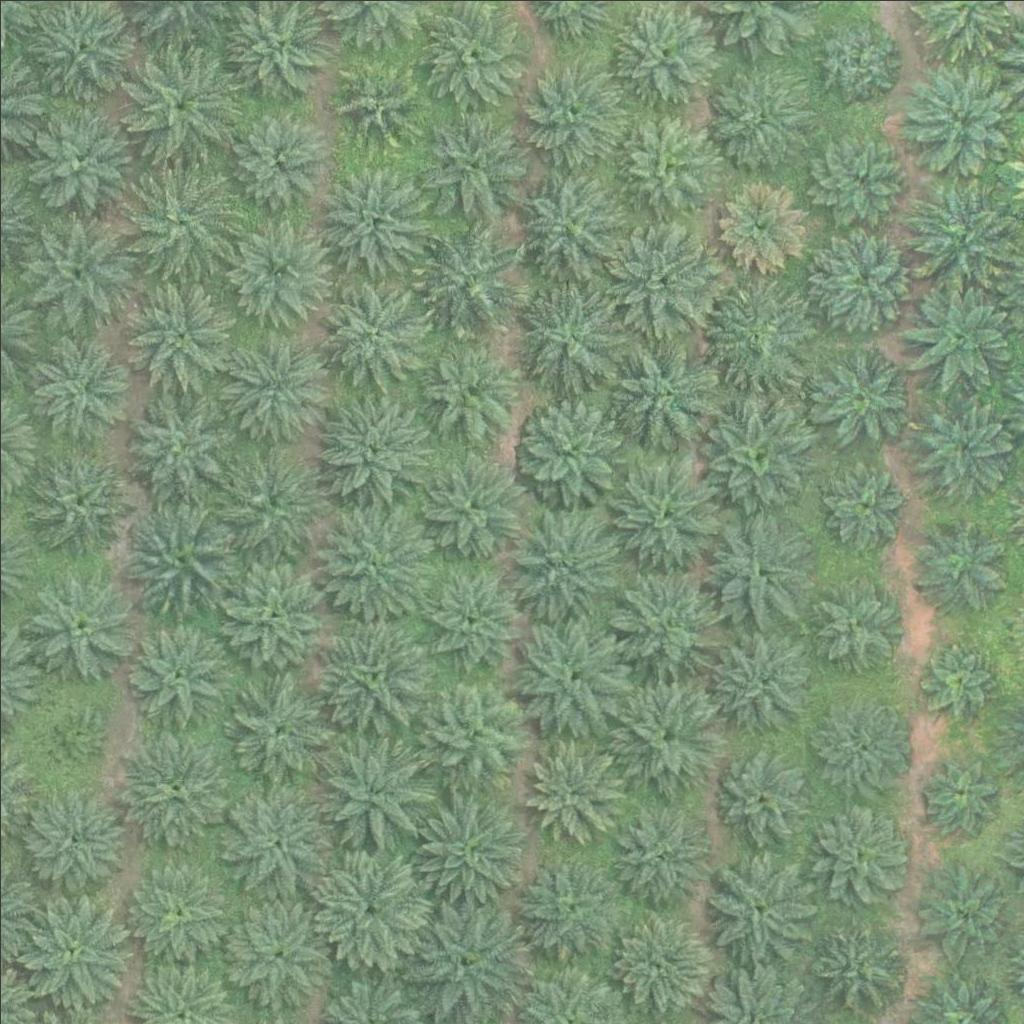Kelapa_Sawit: (14, 893, 127, 1007), (902, 278, 1015, 392), (419, 677, 532, 791), (314, 619, 427, 733), (314, 501, 427, 615), (215, 445, 328, 559), (214, 330, 327, 444), (905, 55, 1018, 169), (312, 851, 425, 964), (315, 739, 428, 852), (406, 902, 519, 1015), (413, 790, 526, 903), (704, 850, 817, 963), (706, 738, 819, 851), (705, 625, 818, 738), (699, 512, 812, 625), (699, 398, 812, 511), (609, 457, 722, 570), (607, 331, 720, 444), (604, 221, 717, 334), (318, 389, 431, 502), (311, 271, 424, 384), (218, 212, 331, 325), (22, 568, 135, 681), (25, 446, 138, 559), (123, 45, 236, 158), (512, 168, 625, 281), (904, 181, 1017, 294), (214, 555, 326, 669), (122, 390, 234, 504), (123, 273, 235, 387), (20, 212, 132, 326), (117, 730, 229, 843), (218, 893, 330, 1006), (214, 783, 326, 896), (511, 849, 623, 962), (699, 276, 811, 389), (614, 679, 726, 792), (611, 563, 723, 676), (512, 619, 624, 732), (506, 507, 618, 620), (512, 395, 624, 508), (517, 282, 629, 395), (413, 452, 525, 565), (416, 222, 528, 335), (220, 674, 332, 787), (122, 498, 234, 611), (128, 165, 240, 278), (23, 101, 135, 214), (319, 168, 431, 281), (415, 109, 527, 222), (520, 742, 620, 843), (612, 910, 712, 1011), (607, 804, 707, 905), (810, 914, 910, 1015), (907, 518, 1007, 619), (912, 393, 1012, 494), (806, 568, 906, 669), (813, 345, 913, 446), (416, 341, 516, 442), (124, 621, 224, 722), (523, 66, 623, 167), (612, 115, 712, 216), (805, 129, 905, 230), (703, 69, 803, 170), (19, 790, 119, 890), (126, 859, 226, 959), (809, 799, 909, 899), (809, 695, 909, 795), (911, 863, 1011, 963), (813, 230, 913, 330), (421, 564, 521, 664), (29, 339, 129, 439), (613, 4, 713, 104), (332, 58, 420, 147), (911, 638, 999, 726), (821, 462, 909, 550), (717, 181, 805, 269), (232, 116, 319, 204), (810, 14, 897, 102), (924, 755, 999, 831), (36, 702, 98, 765)
